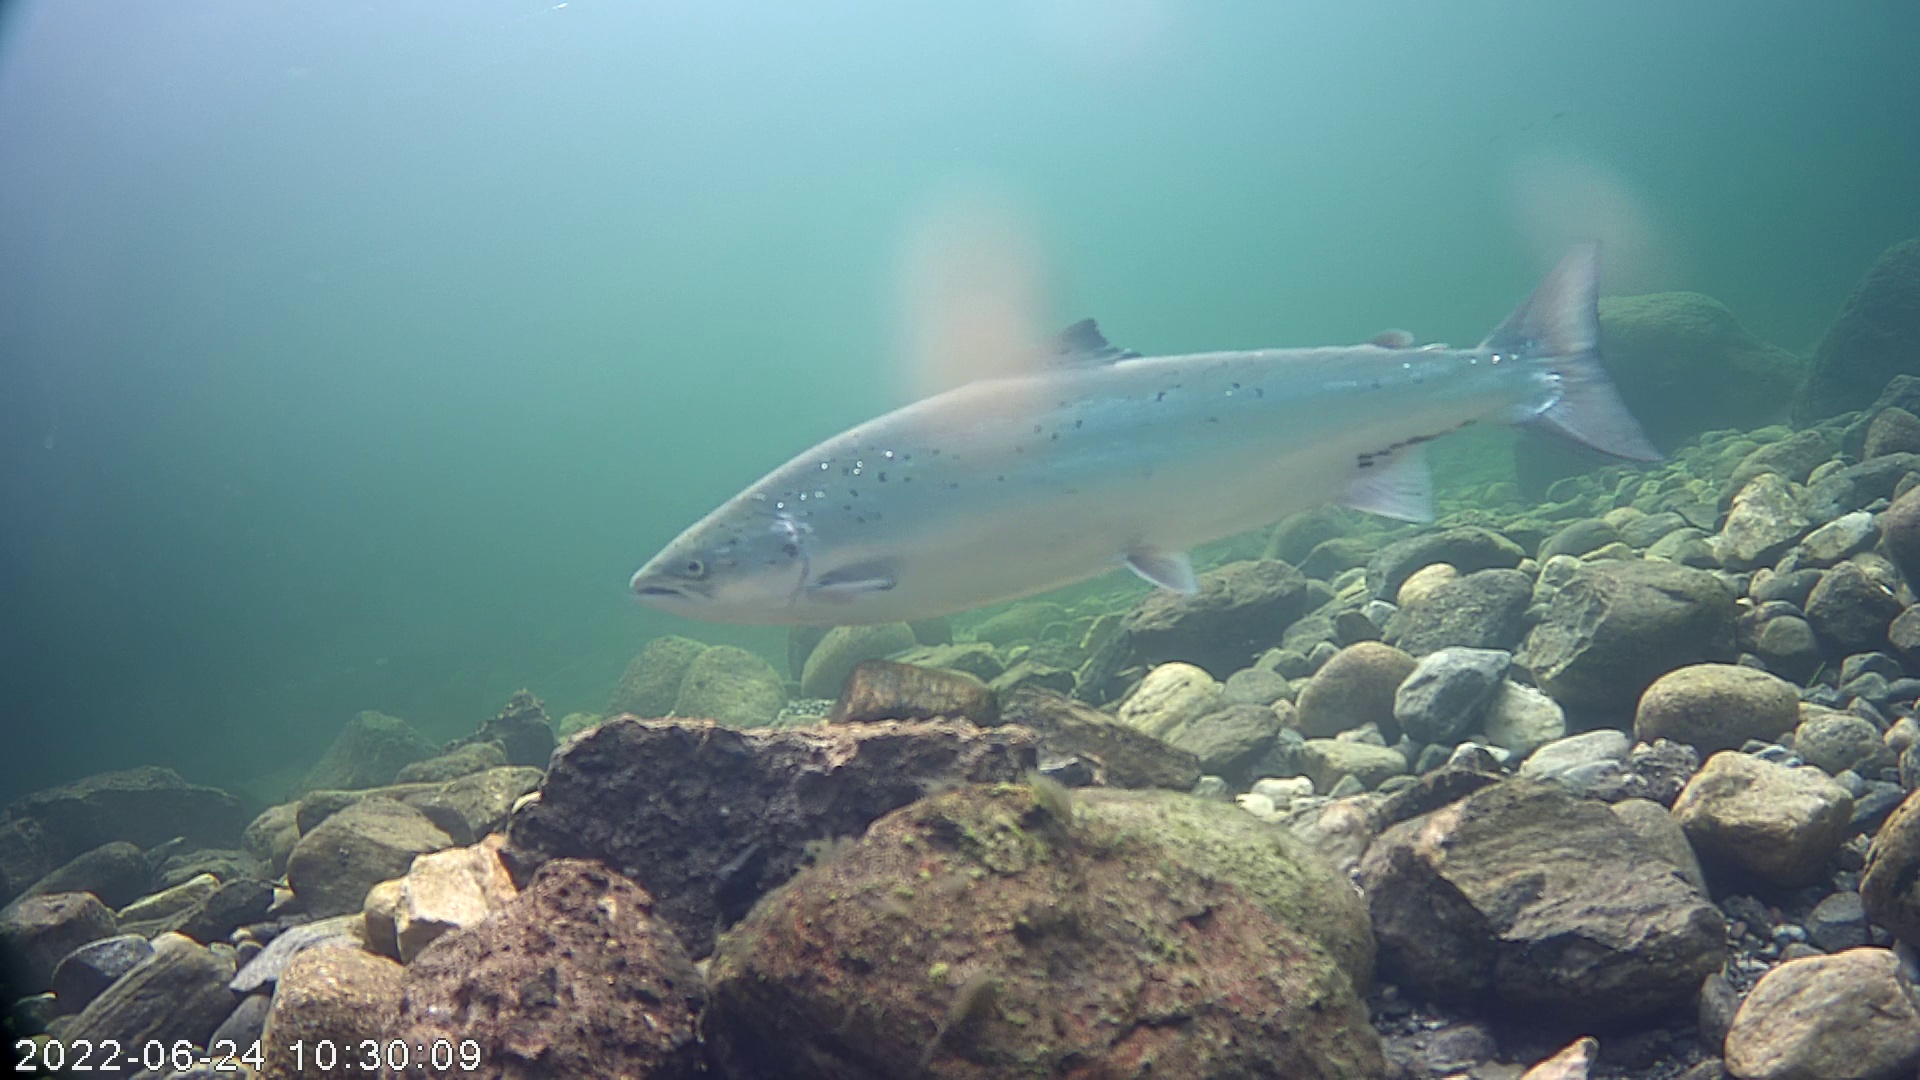salmon: (625, 236, 1669, 634)
